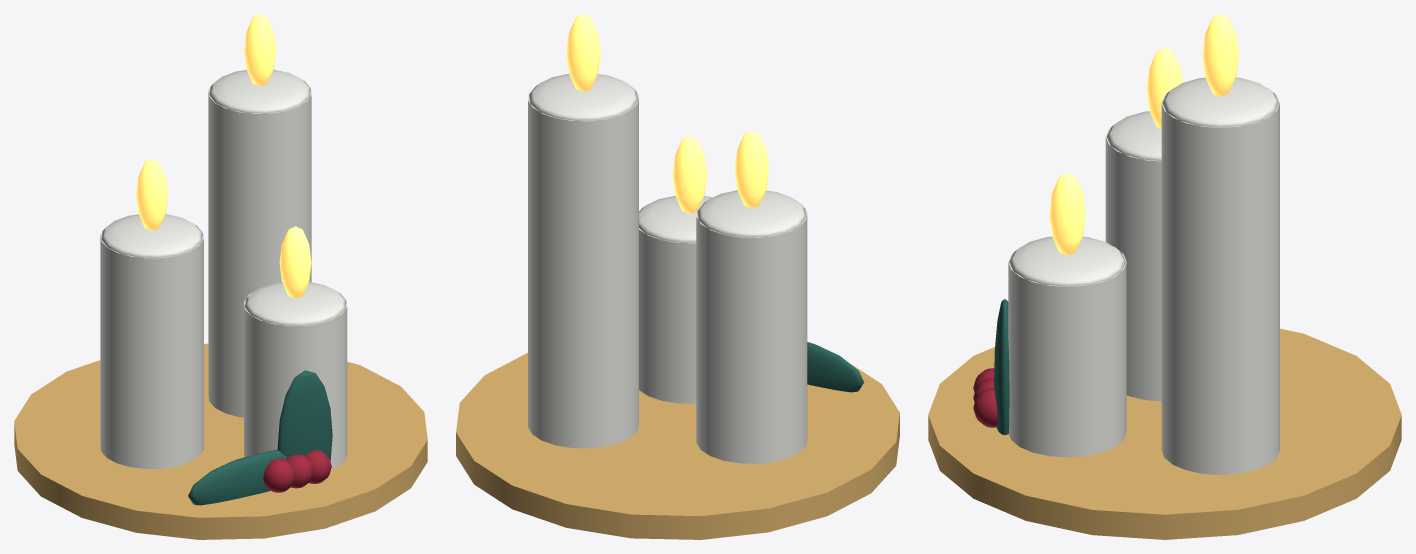
File: christmas-storybook-advent-candles-2129a88f__18733.glb
The picture shows the model from 3 angles, left to right: view 1: azimuth 30°, elevation 25°; view 2: azimuth 150°, elevation 25°; view 3: azimuth 270°, elevation 25°; orthographic projection. The views are drawn at different scales.
Parts seen in each view (by area): view 1: cream, brass, pine, light, berry; view 2: cream, brass, light, pine; view 3: cream, brass, light, pine, berry.
Part boxes in pixels (x1,y1,x2,y2): cream: (100,69,347,469); brass: (14,343,427,539); pine: (188,370,332,505); light: (136,14,311,298); berry: (263,450,331,492); cream: (528,73,807,463); brass: (456,353,899,539); light: (566,14,768,213); pine: (807,342,864,392); cream: (1008,77,1279,474); brass: (928,328,1401,539); light: (1049,14,1238,254); pine: (994,299,1009,434); berry: (973,368,997,427).
Bounding box in the file's own units: 0.68 × 0.7555 × 0.68.
